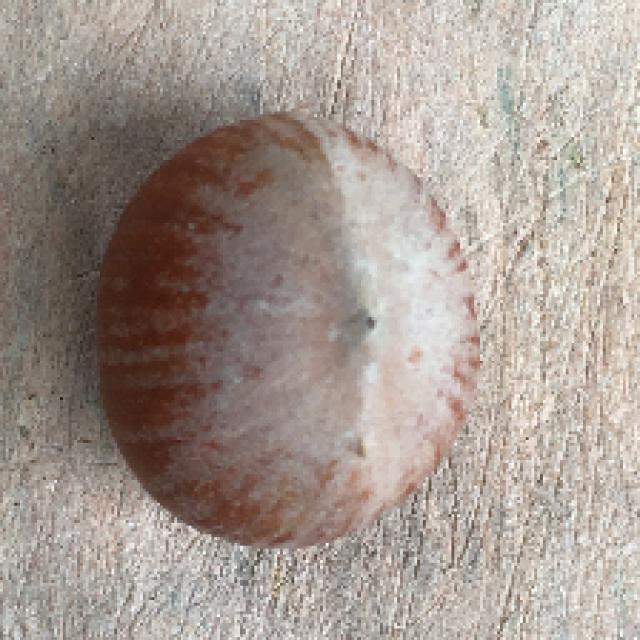qualityHazelnut: (93, 113, 484, 546)
